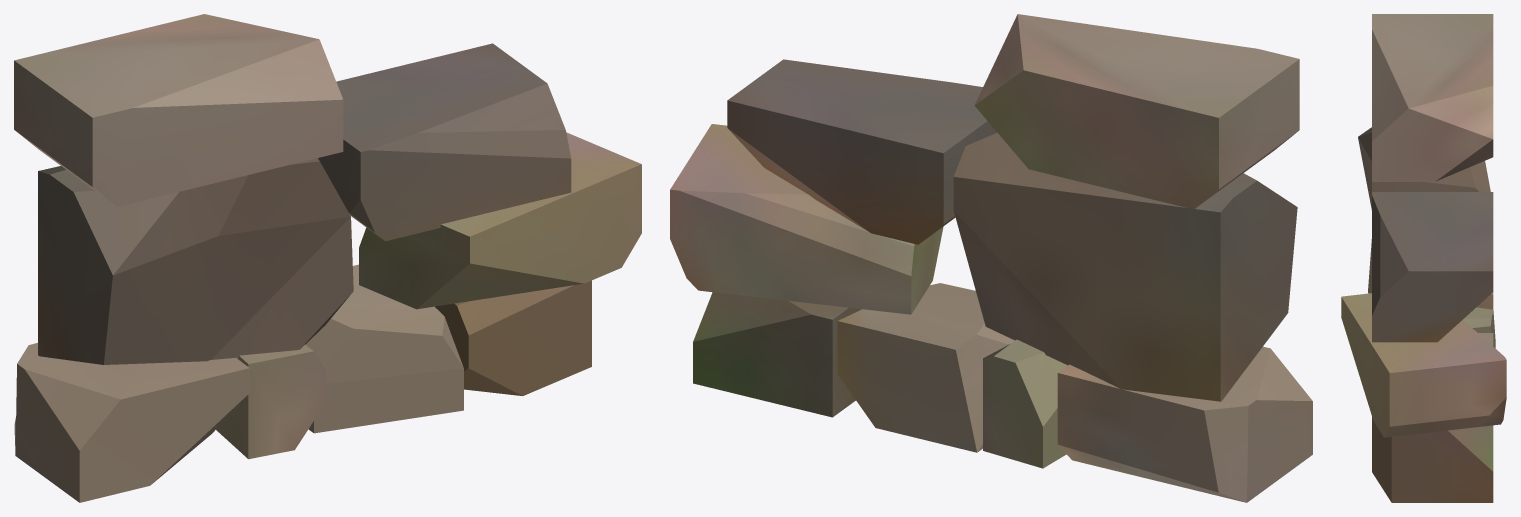
The model's file is mega-pack-cube-228.glb.
The picture shows the model from 3 angles, left to right: view 1: azimuth 30°, elevation 25°; view 2: azimuth 150°, elevation 25°; view 3: azimuth 270°, elevation 25°; orthographic projection. The views are drawn at different scales.
Visible parts, largest first — view 1: Cube.228; view 2: Cube.228; view 3: Cube.228.
Part boxes in pixels (x1,y1,x2,y2): Cube.228: [14, 14, 641, 502]; Cube.228: [670, 14, 1312, 502]; Cube.228: [1341, 14, 1506, 502].
Bounding box in the file's own units: 1.15 × 0.7313 × 0.3708.
Materials: 1 (1 with a texture image).
